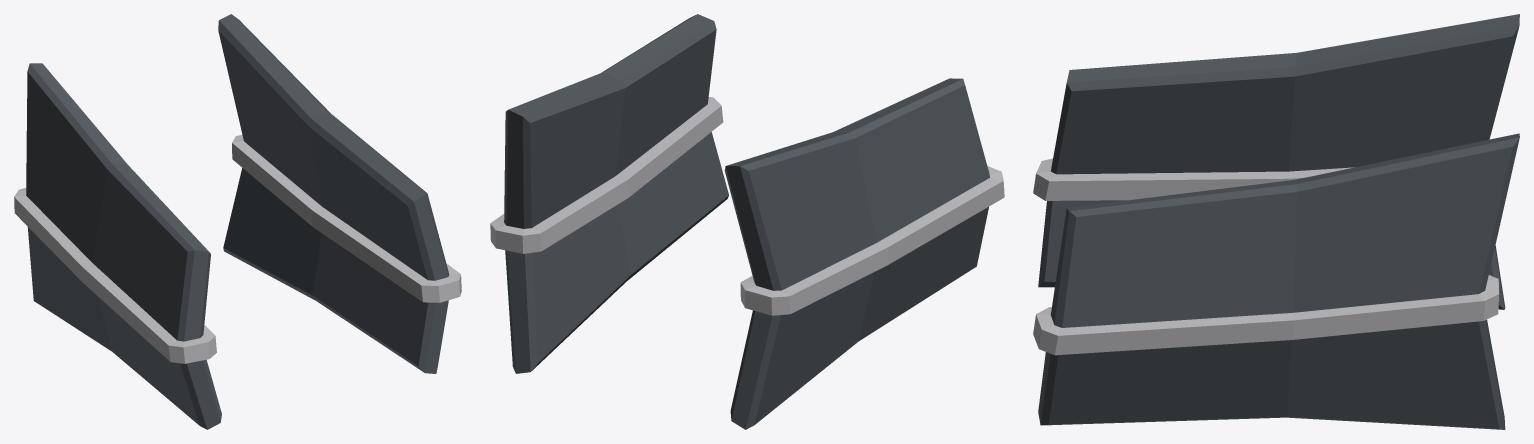
File: Personal_Vehicle_04_Thruster_Frame.fbx
The picture shows the model from 3 angles, left to right: view 1: azimuth 30°, elevation 25°; view 2: azimuth 150°, elevation 25°; view 3: azimuth 270°, elevation 25°; orthographic projection. The views are drawn at different scales.
Visible parts, largest first — view 1: Personal_Vehicle_04_Thruster_Frame; view 2: Personal_Vehicle_04_Thruster_Frame; view 3: Personal_Vehicle_04_Thruster_Frame.
Part boxes in pixels (x1,y1,x2,y2): Personal_Vehicle_04_Thruster_Frame: (14, 14, 461, 429); Personal_Vehicle_04_Thruster_Frame: (490, 14, 1004, 429); Personal_Vehicle_04_Thruster_Frame: (1033, 14, 1519, 429).
Bounding box in the file's own units: 82.68 × 63.25 × 95.16.
Materials: 1 (1 with a texture image).
